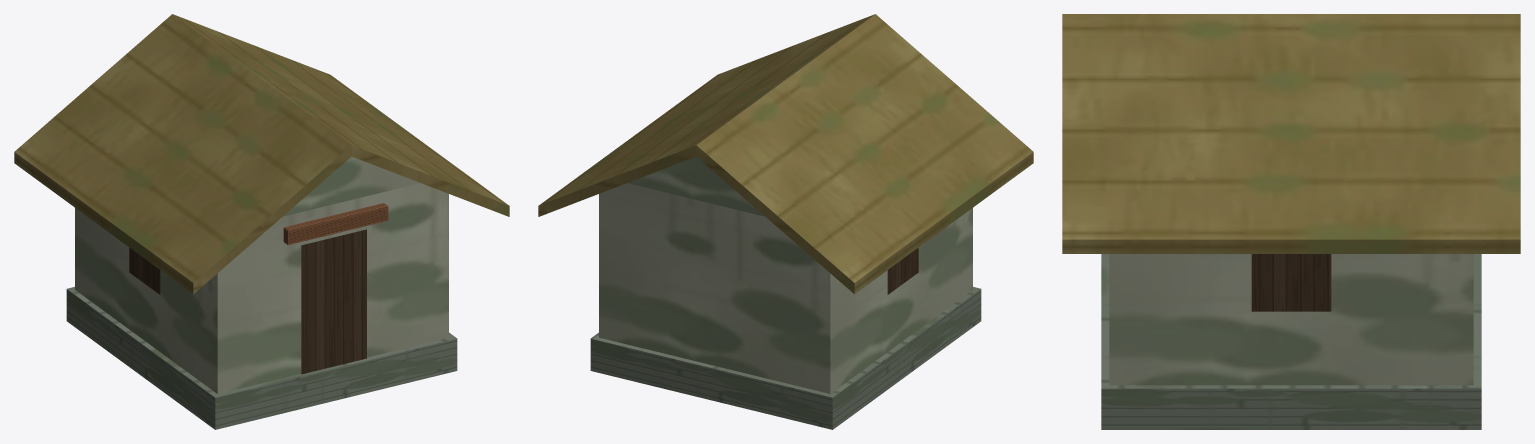
The model's file is ae_jungle_stone_small_hut_lod1.glb.
3 views of the same model, side by side, from view 1: azimuth 30°, elevation 25°; view 2: azimuth 150°, elevation 25°; view 3: azimuth 270°, elevation 25° (orthographic). The views are drawn at different scales.
Visible parts, largest first — view 1: ae_jungle_stone_small_hut_lod1; view 2: ae_jungle_stone_small_hut_lod1; view 3: ae_jungle_stone_small_hut_lod1.
Part boxes in pixels (bbox=[...]): ae_jungle_stone_small_hut_lod1: bbox=[14, 14, 509, 429]; ae_jungle_stone_small_hut_lod1: bbox=[538, 14, 1033, 429]; ae_jungle_stone_small_hut_lod1: bbox=[1062, 14, 1520, 429].
Size of the model in its own units: 4.1 by 3.3 by 4.02.
Materials: 1 (1 with a texture image).
